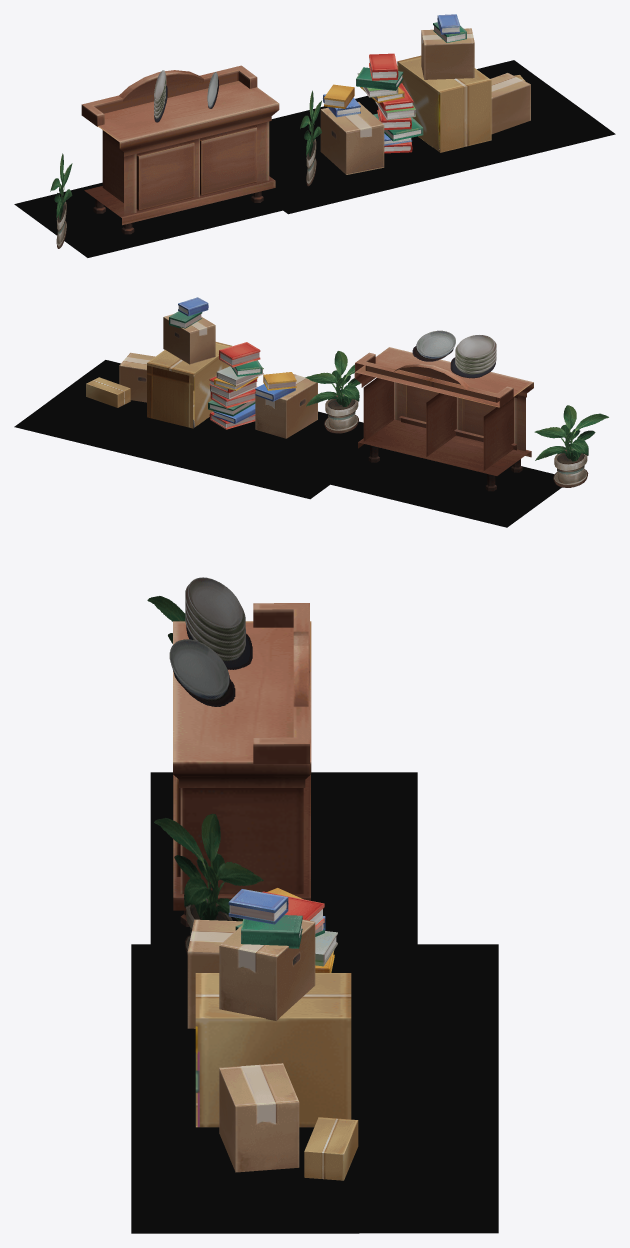
Rendered from K1_oldtablewaretable.FBX.
3 views of the same model, one above another, from view 1: azimuth 30°, elevation 25°; view 2: azimuth 150°, elevation 25°; view 3: azimuth 270°, elevation 25° (orthographic). The views are drawn at different scales.
Parts seen in each view (by area): view 1: oldtablewaretable_02, oldtablewaretable_box_yy, oldtablewaretable_yy, oldtablewaretable_boxi01, oldtablewaretable_box00, oldtablewaretable_03, oldtablewaretable_04, oldtablewaretable_box04, oldtablewaretable_box03, cc_oldornament015, cc_oldornament014, tablewaretable_book04 (+8 smaller); view 2: oldtablewaretable_box_yy, oldtablewaretable_02, oldtablewaretable_yy, oldtablewaretable_boxi01, cc_oldornament014, oldtablewaretable_box00, cc_oldornament015, oldtablewaretable_box04, oldtablewaretable_00, oldtablewaretable_box03, oldtablewaretable_01, oldtablewaretable_box02 (+12 smaller); view 3: oldtablewaretable_box_yy, oldtablewaretable_02, oldtablewaretable_yy, oldtablewaretable_boxi01, oldtablewaretable_box03, oldtablewaretable_box04, cc_oldornament015, oldtablewaretable_00, oldtablewaretable_01, oldtablewaretable_box02, oldtablewaretable_box00, tablewaretable_book02 (+1 smaller).
Boxes of the visible parts, x1,y1,x2,y2 form: oldtablewaretable_02: (81, 65, 279, 234); oldtablewaretable_box_yy: (261, 60, 615, 214); oldtablewaretable_yy: (14, 182, 282, 257); oldtablewaretable_boxi01: (397, 55, 491, 152); oldtablewaretable_box00: (320, 102, 384, 174); oldtablewaretable_03: (136, 142, 194, 210); oldtablewaretable_04: (200, 126, 256, 195); oldtablewaretable_box04: (421, 28, 474, 79); oldtablewaretable_box03: (490, 73, 530, 134); cc_oldornament015: (300, 90, 321, 186); cc_oldornament014: (50, 153, 72, 248); tablewaretable_book04: (369, 53, 398, 80); oldtablewaretable_box_yy: (14, 360, 379, 499); oldtablewaretable_02: (354, 347, 533, 491); oldtablewaretable_yy: (331, 448, 561, 527); oldtablewaretable_boxi01: (147, 342, 231, 428); cc_oldornament014: (534, 405, 608, 487); oldtablewaretable_box00: (255, 374, 317, 438); cc_oldornament015: (305, 351, 360, 433); oldtablewaretable_box04: (163, 314, 215, 364); oldtablewaretable_00: (450, 335, 496, 378); oldtablewaretable_box03: (119, 352, 154, 402); oldtablewaretable_01: (412, 330, 455, 361); oldtablewaretable_box02: (86, 377, 130, 407); oldtablewaretable_box_yy: (131, 944, 498, 1233); oldtablewaretable_02: (173, 603, 311, 926); oldtablewaretable_yy: (150, 772, 417, 944); oldtablewaretable_boxi01: (195, 973, 351, 1127); oldtablewaretable_box03: (219, 1063, 299, 1172); oldtablewaretable_box04: (219, 919, 315, 1020); cc_oldornament015: (154, 813, 263, 955); oldtablewaretable_00: (185, 577, 252, 669); oldtablewaretable_01: (169, 639, 235, 706); oldtablewaretable_box02: (304, 1117, 358, 1180); oldtablewaretable_box00: (187, 919, 242, 1028); tablewaretable_book02: (241, 915, 302, 948).
Size of the model in its own units: 239 by 60.9 by 74.25.
